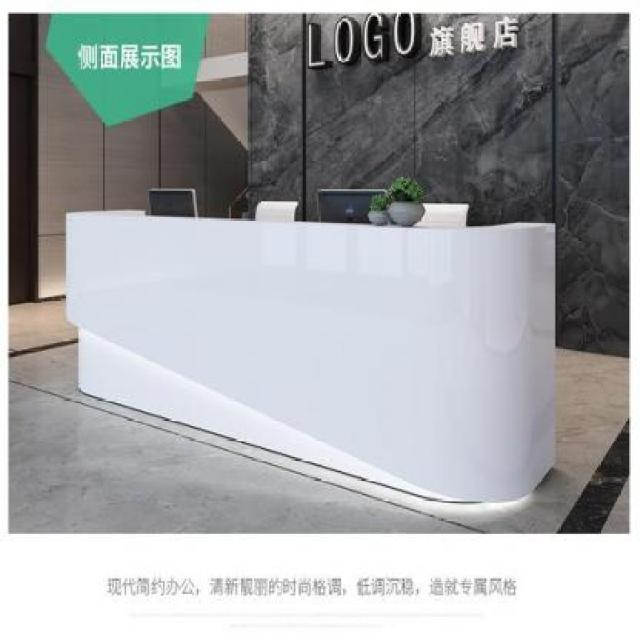frontdesk: (56, 190, 570, 514)
